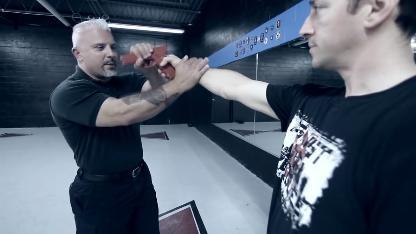pistol: (119, 43, 176, 79)
